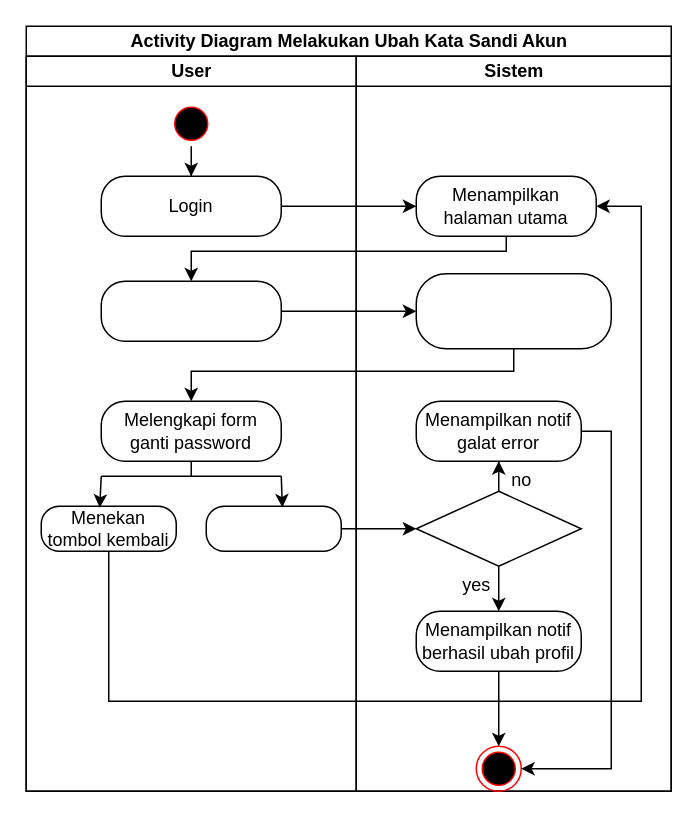
Image size: 698x818. Some labels were removed from this diagram. The shapes that lost their labels are listed below. From the top down, each one's centre as x and y in pixels, then its label:
At [190,310]: "Memilih menu ganti password".
At [513,310]: "Menampilkan halaman ganti password".
At [273,528]: "Menekan tombol save".
At [498,528]: "Condition".
